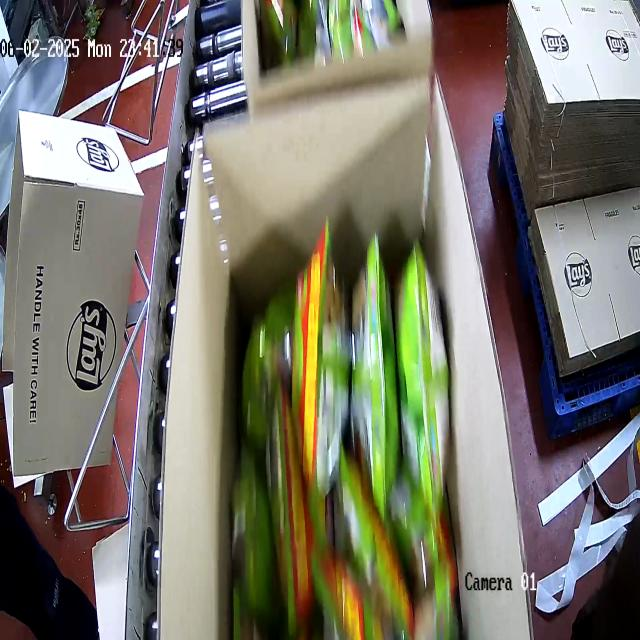YOGURT_HERB: (227, 214, 464, 640)
